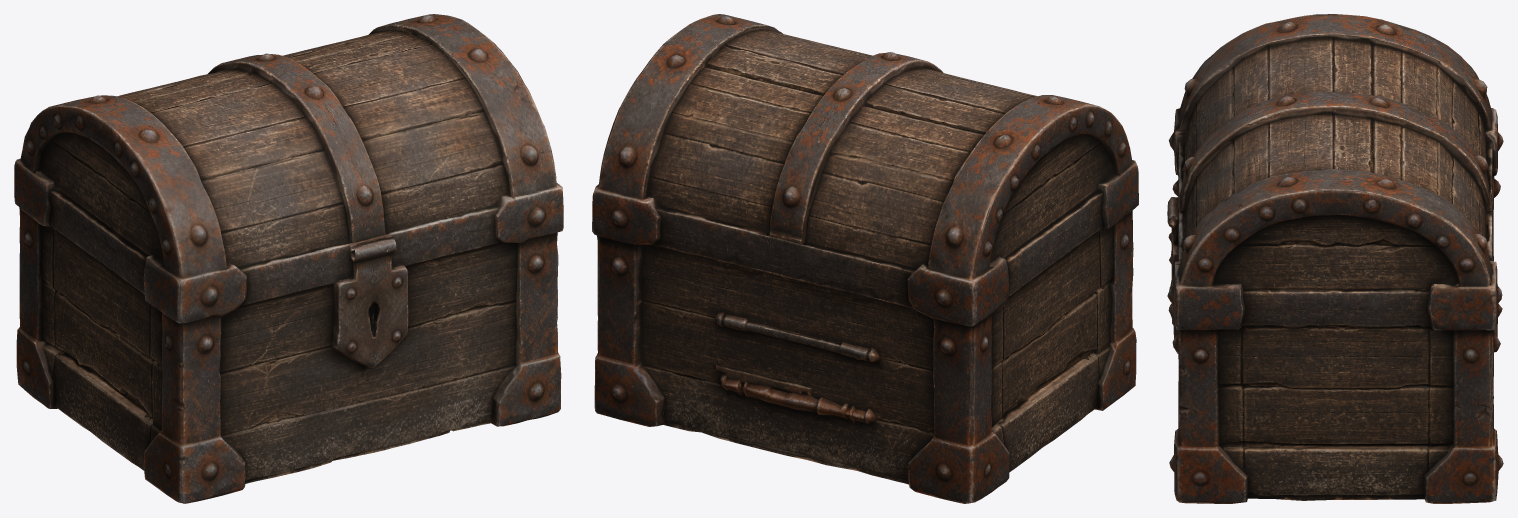
File: Chest.fbx
3 views of the same model, side by side, from view 1: azimuth 30°, elevation 25°; view 2: azimuth 150°, elevation 25°; view 3: azimuth 270°, elevation 25° (orthographic). The views are drawn at different scales.
Visible parts, largest first — view 1: texture_mapping; view 2: texture_mapping; view 3: texture_mapping.
Part boxes in pixels (x1,y1,x2,y2): texture_mapping: (14, 14, 563, 503); texture_mapping: (592, 14, 1138, 503); texture_mapping: (1167, 14, 1503, 503).
Bounding box in the file's own units: 1 × 0.778 × 0.8185.
Materials: 1 (1 with a texture image).
